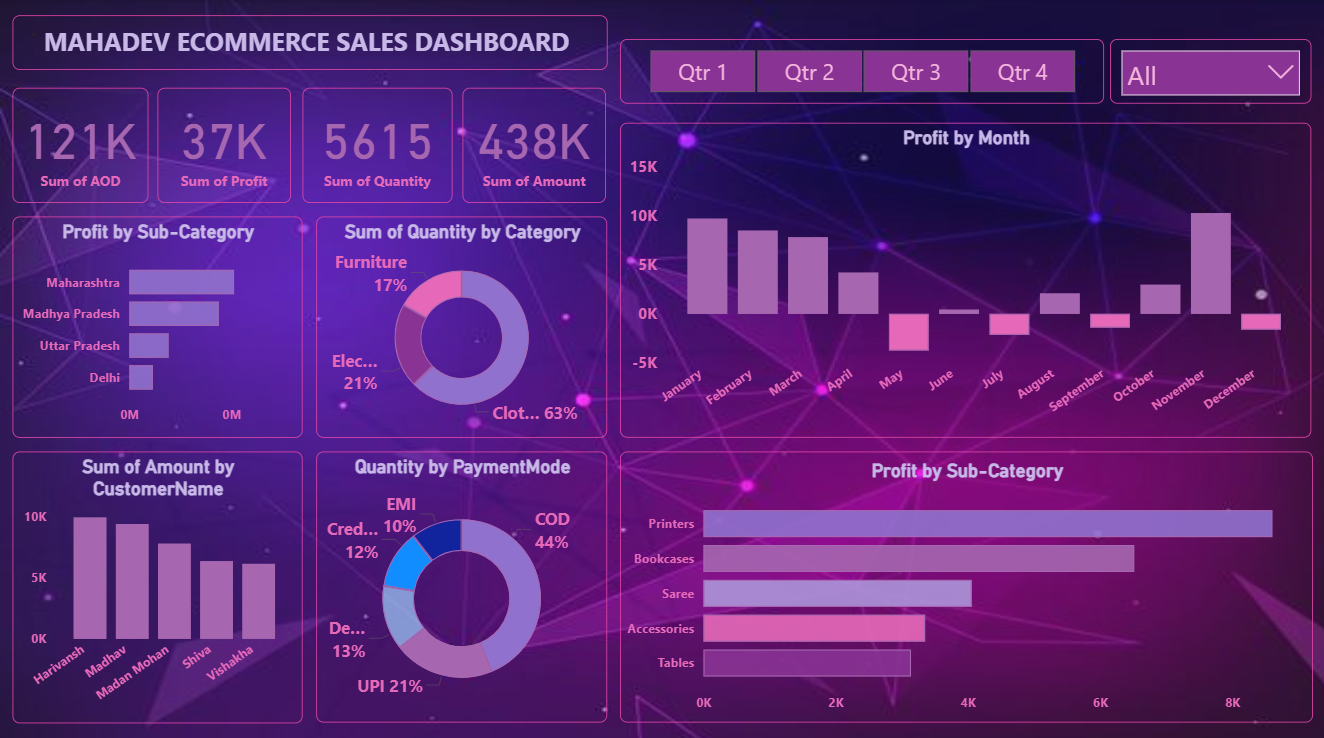

Layout of this report page (visuals, bound fields, positions):
{"tool":"powerbi","page":{"name":"Page 1","canvas":[1280,720],"ordinal":0},"visuals":[{"type":"textbox","box":[12.1,15.7,574.3,53.1],"z":0},{"type":"columnChart","title":" Profit by Month","fields":{"Category":["Orders.Order Date.Variation.Date Hierarchy.Month"],"Y":["Details.Profit"]},"box":[598.4,119.4,667.2,304],"z":1000},{"type":"barChart","title":"Profit by Sub-Category","fields":{"Category":["Details.Sub-Category"],"Y":["Details.Profit"]},"box":[598.8,437,669.1,261.7],"z":2000},{"type":"donutChart","fields":{"Category":["Details.Category"],"Y":["Details.Quantity"]},"box":[305.2,209.9,281.1,213.5],"z":3000},{"type":"donutChart","title":" Quantity by PaymentMode","fields":{"Category":["Details.PaymentMode"],"Y":["Details.Quantity"]},"box":[305.2,436.7,281.1,261.8],"z":4000},{"type":"card","fields":{"Values":["Details.Amount"]},"box":[446.4,85.7,138.7,111],"z":5000},{"type":"card","fields":{"Values":["Details.Quantity"]},"box":[292,85.7,144.8,111],"z":6000},{"type":"card","fields":{"Values":["Details.Profit"]},"box":[152,85.7,129.1,111],"z":7000},{"type":"card","fields":{"Values":["Details.AOD"]},"box":[12.1,85.7,131.5,111],"z":8000},{"type":"barChart","title":"Profit by Sub-Category","fields":{"Category":["Orders.State"],"Y":["Details.Amount"]},"box":[12.1,209.9,279.9,213.5],"z":9000},{"type":"columnChart","fields":{"Category":["Orders.CustomerName"],"Y":["Details.Amount"]},"box":[12,437,280,262],"z":10000},{"type":"slicer","fields":{"Values":["Orders.Order Date.Variation.Date Hierarchy.Quarter"]},"box":[598.4,38.6,466.9,62.7],"z":11000},{"type":"slicer","fields":{"Values":["Orders.State"]},"box":[1071.3,38.6,194.2,62.7],"z":12000}]}

Visuals, with their boxes in screenshot pixels (x1, y1, x2, y2), scaled from the page's 1280x720 canvas onto the 1324x738 screenshot:
textbox: [13,16,607,71]
" Profit by Month" columnChart: [619,122,1309,434]
"Profit by Sub-Category" barChart: [619,448,1311,716]
donutChart - Details.Category x Details.Quantity: [316,215,606,434]
" Quantity by PaymentMode" donutChart: [316,448,606,716]
card - Details.Amount: [462,88,605,202]
card - Details.Quantity: [302,88,452,202]
card - Details.Profit: [157,88,291,202]
card - Details.AOD: [13,88,149,202]
"Profit by Sub-Category" barChart: [13,215,302,434]
columnChart - Orders.CustomerName x Details.Amount: [12,448,302,716]
slicer - Orders.Order Date.Variation.Date Hierarchy.Quarter: [619,40,1102,104]
slicer - Orders.State: [1108,40,1309,104]
